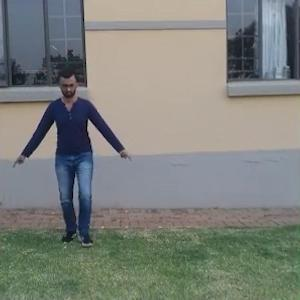land: (0, 66, 131, 253)
